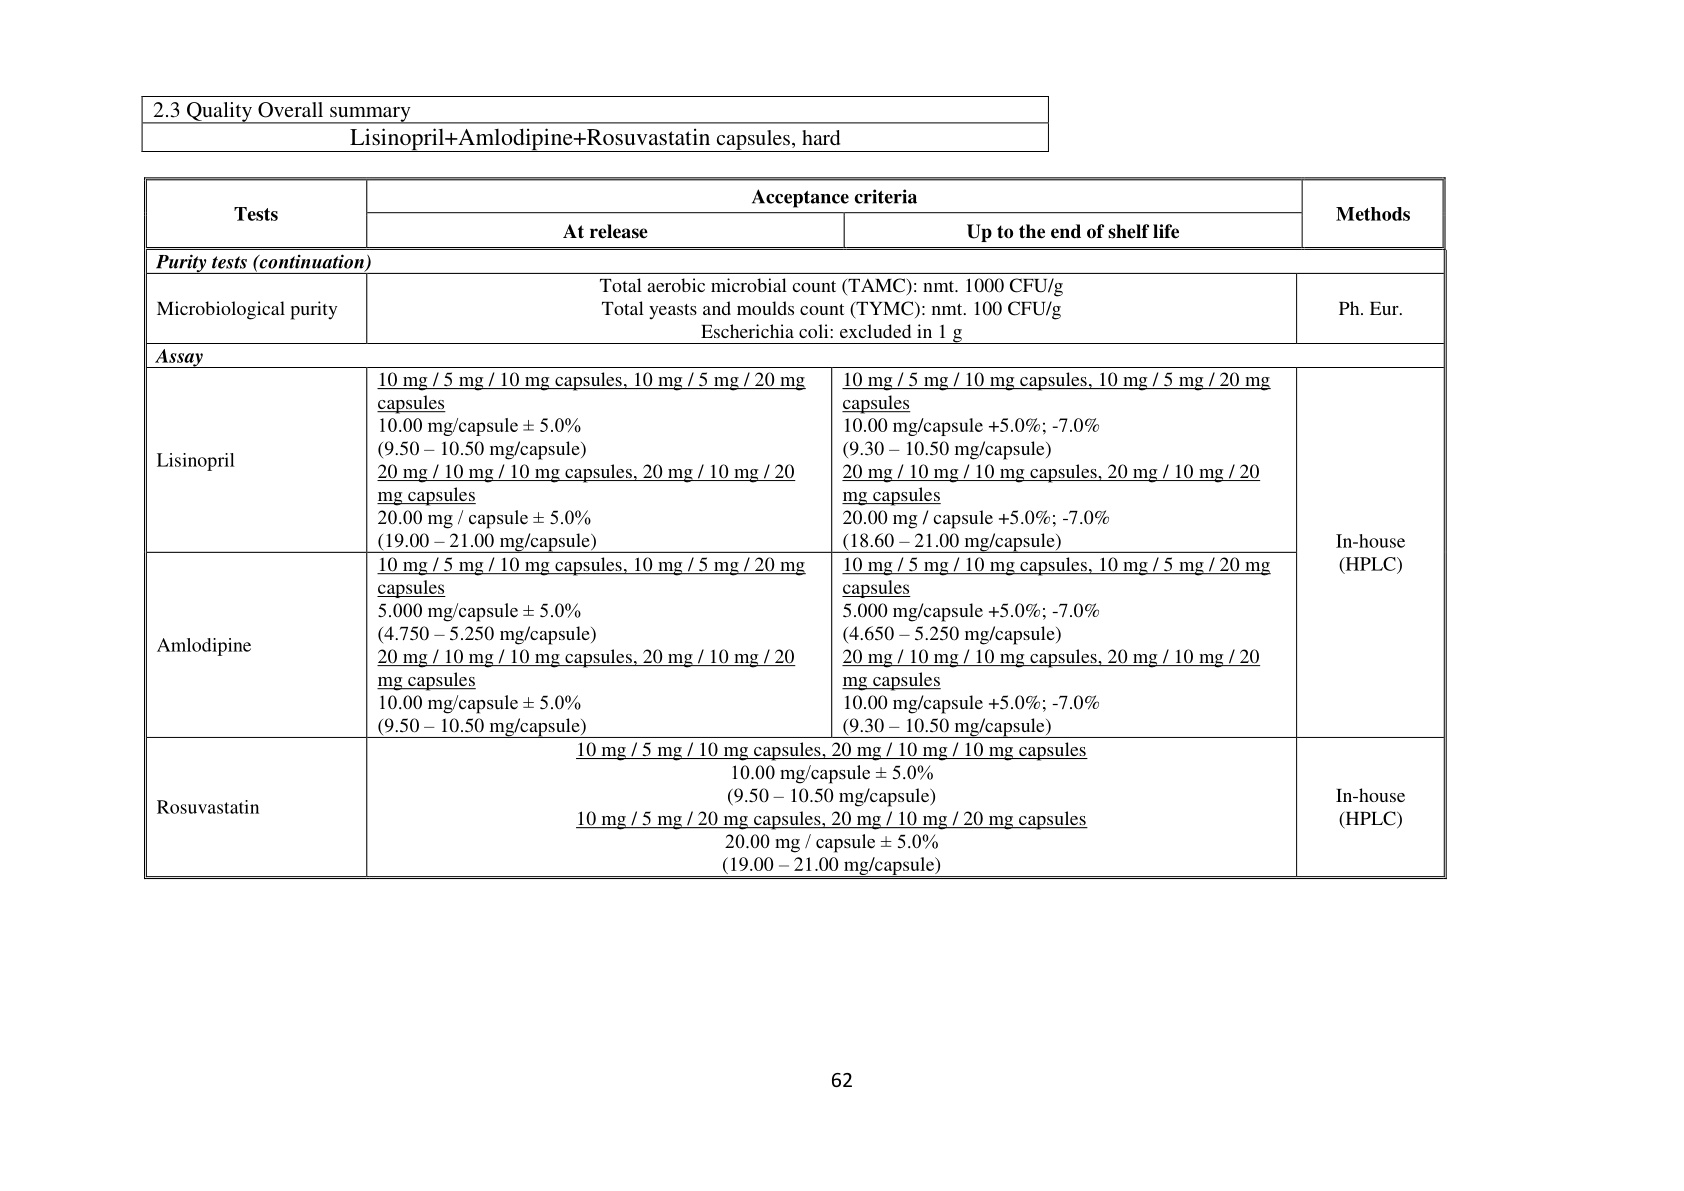full_lined: (139, 93, 1049, 152)
merged_cells: (142, 175, 1448, 880)
